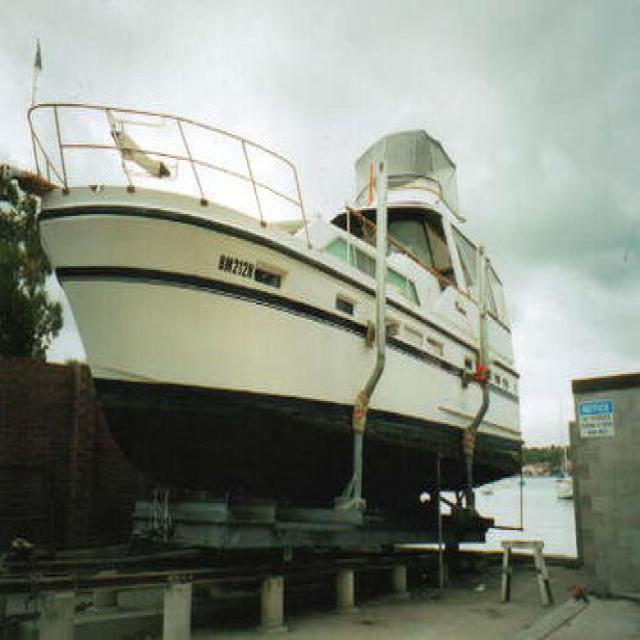boat: (27, 101, 522, 487)
